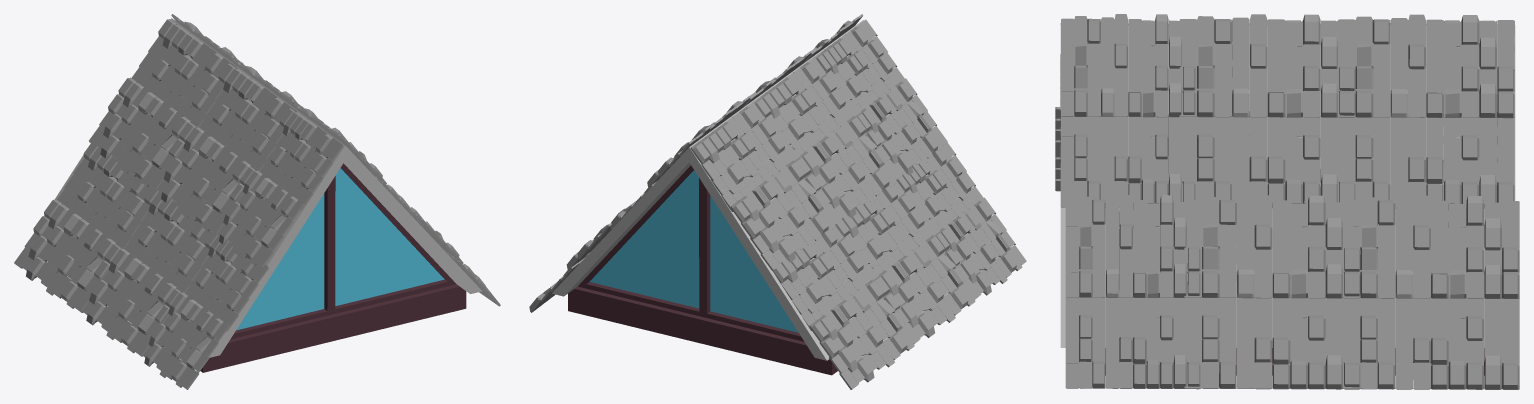
Rendered from Roof.fbx.
The picture shows the model from 3 angles, left to right: view 1: azimuth 30°, elevation 25°; view 2: azimuth 150°, elevation 25°; view 3: azimuth 270°, elevation 25°; orthographic projection. The views are drawn at different scales.
Visible parts, largest first — view 1: TILES, ROOF TRIANGLE; view 2: TILES, ROOF TRIANGLE; view 3: TILES, ROOF TRIANGLE.
Boxes of the visible parts, box(x1,y1,x2,y2) form: TILES: box(14, 14, 500, 389); ROOF TRIANGLE: box(55, 18, 482, 372); TILES: box(529, 14, 1026, 389); ROOF TRIANGLE: box(552, 20, 971, 375); TILES: box(1055, 14, 1519, 389); ROOF TRIANGLE: box(1060, 25, 1515, 375).
Bounding box in the file's own units: 975 × 624 × 930.
